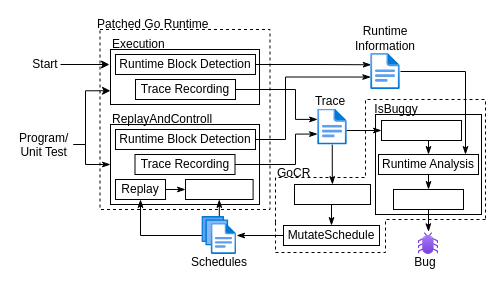
The diagram is 504 pixels wide and 286 high, and some of its shapes have lost their labels. The centre of each missing label's shape, as x and y in pixels:
"Filter" belongs at (x=428, y=199).
"IsInteresting" belongs at (x=332, y=194).
"Schedule" belongs at (x=218, y=189).
"Trace Analysis" belongs at (x=421, y=130).
